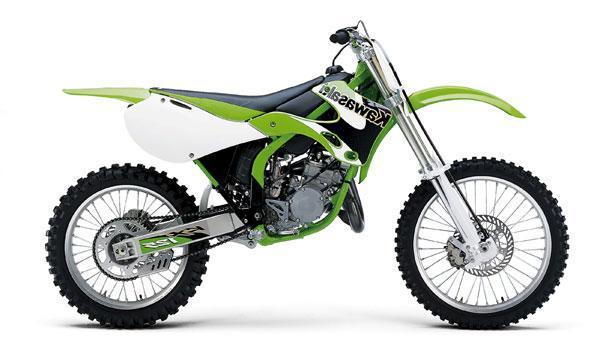motorcycle: (18, 14, 579, 347)
